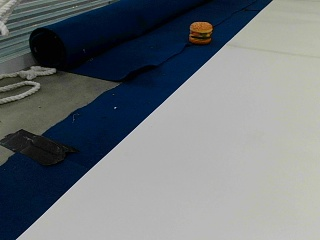burger: (188, 19, 212, 43)
